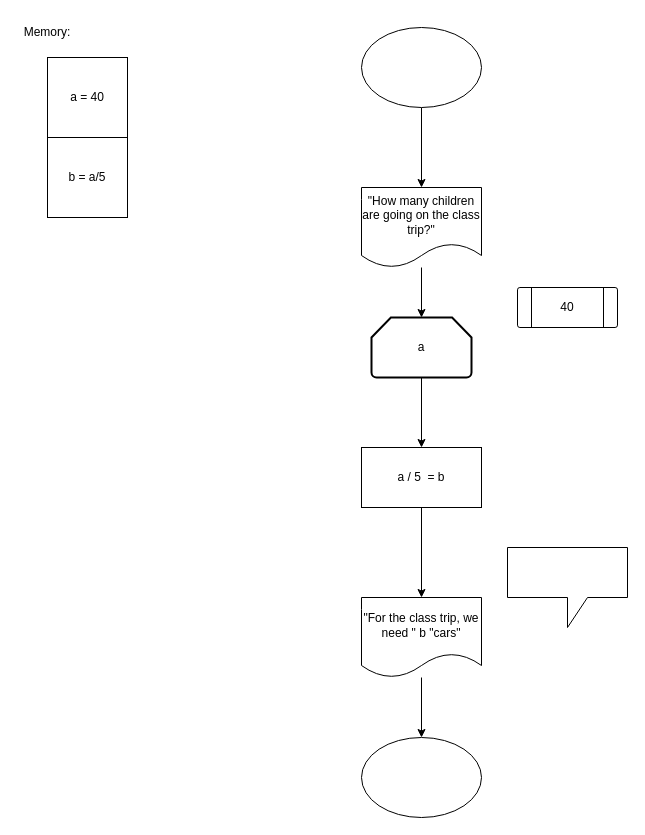
This 645x835 diagram has some shape labels left out. The centre of each missing label's shape, as x and y in pixels:
For the class trip we need 8 cars: (567,587)
START: (421,67)
STOP: (421,777)
